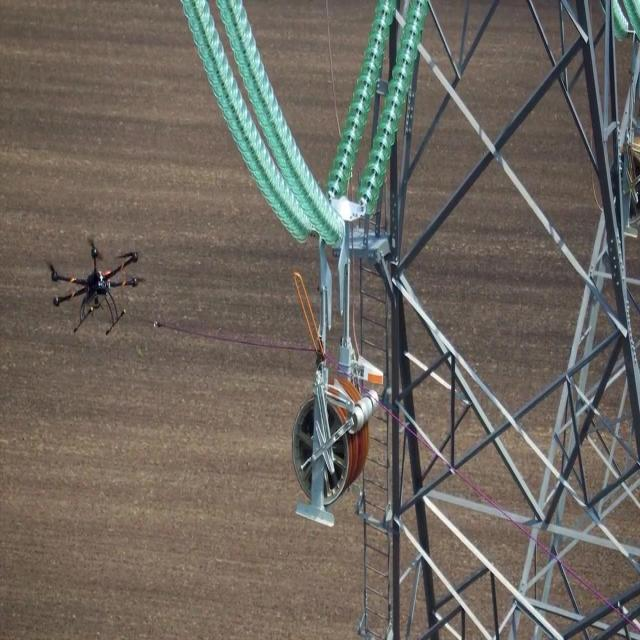drone: (43, 230, 147, 338)
